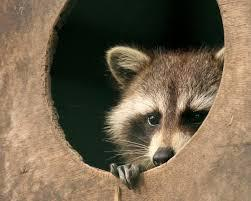raccoon: (65, 28, 232, 189)
